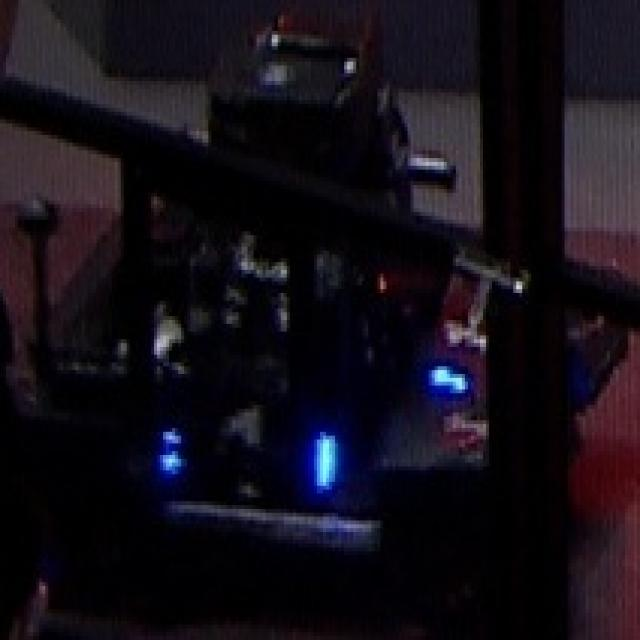B1: (154, 397, 341, 517)
